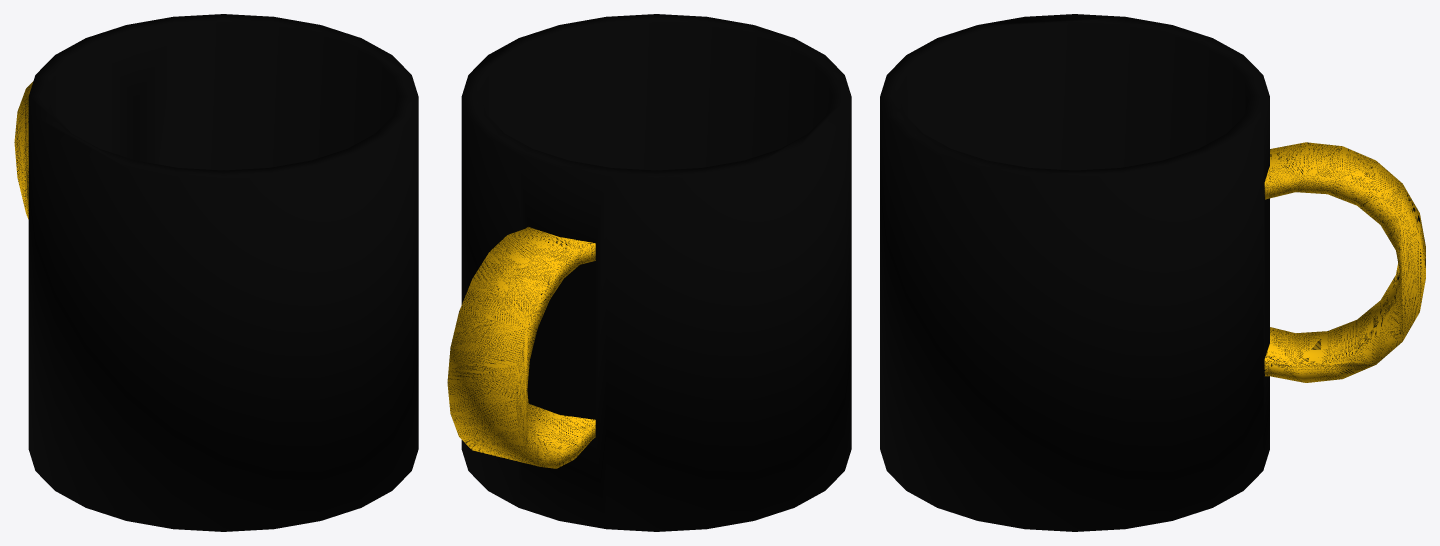
File: mug_03_origin_gt_1.dae
3 views of the same model, side by side, from view 1: azimuth 30°, elevation 25°; view 2: azimuth 150°, elevation 25°; view 3: azimuth 270°, elevation 25° (orthographic).
Visible parts, largest first — view 1: group_0 (×3); view 2: group_0 (×3); view 3: group_0 (×3).
Boxes of the visible parts, x1=… form: group_0 (×3): x1=14, y1=14, x2=418, y2=531; group_0 (×3): x1=447, y1=14, x2=851, y2=531; group_0 (×3): x1=880, y1=14, x2=1425, y2=531.
Size of the model in its own units: 2.88 by 4.03 by 2.88.
